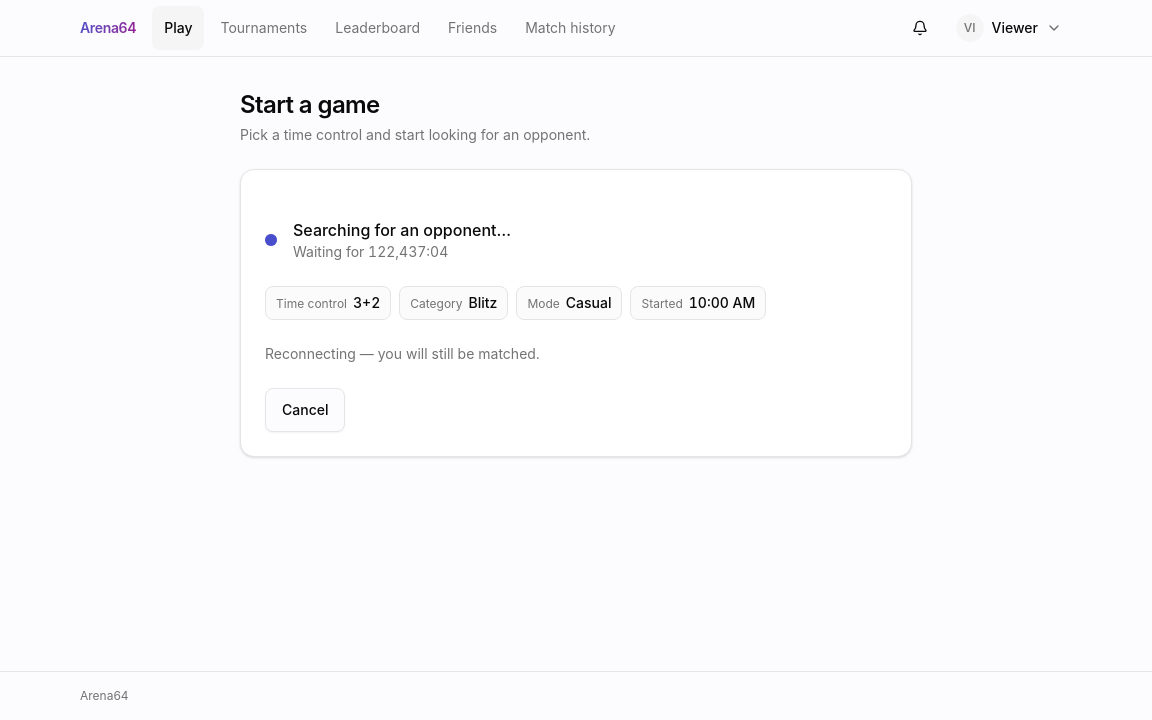
Test: cancelling › shows the offer when a pairing won the race
Click the button "Cancel" at (305, 410), box [265,388,346,432]
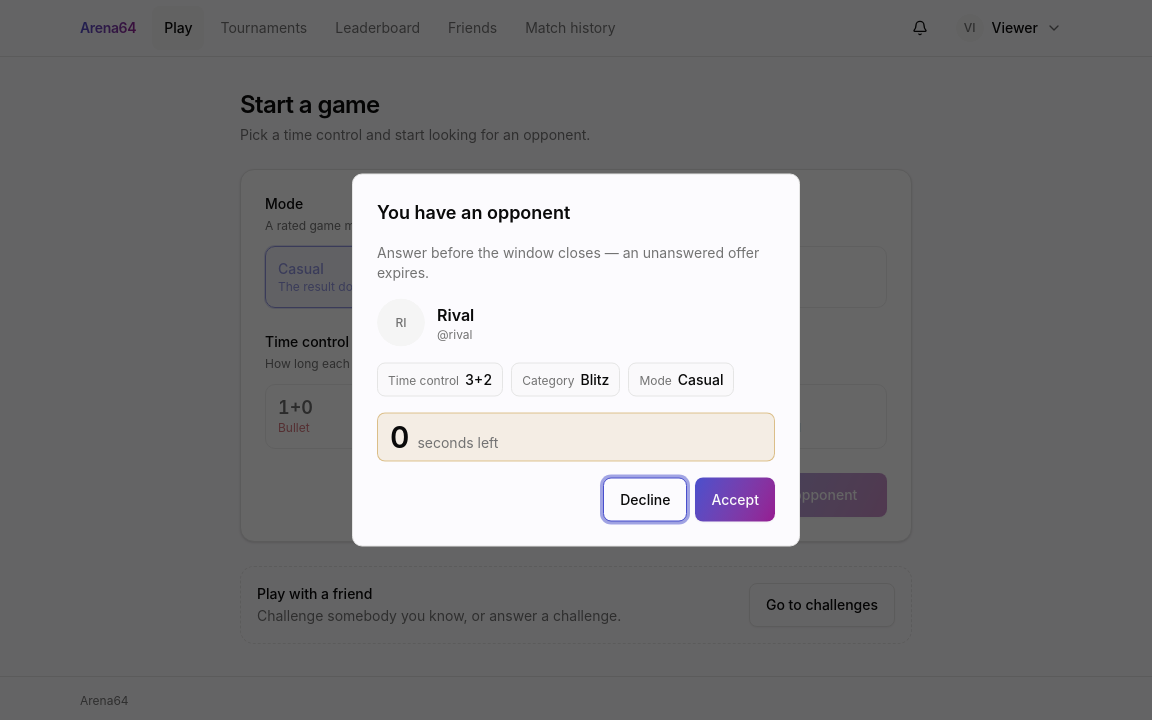
Now the dialog is shown, box [352,174,800,546]
Now the text "Rival" is shown, box [437,302,474,326]
